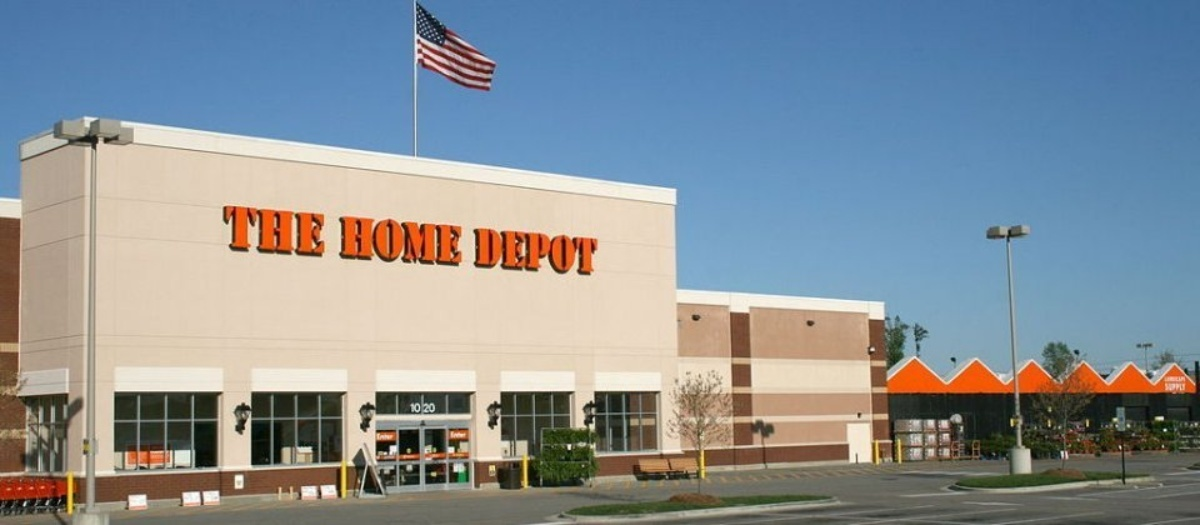text: (225, 204, 240, 256), (241, 204, 256, 256), (257, 204, 272, 256), (273, 204, 288, 256), (289, 204, 304, 256), (305, 204, 320, 256), (353, 216, 368, 267), (369, 216, 384, 267), (385, 216, 400, 267), (401, 216, 416, 267), (417, 216, 432, 267), (433, 216, 448, 267), (481, 228, 496, 276), (497, 228, 512, 276), (513, 228, 528, 276), (529, 228, 544, 276), (545, 228, 560, 276), (561, 228, 576, 276), (577, 228, 592, 276), (449, 216, 463, 267), (339, 216, 352, 267), (593, 228, 601, 276), (321, 204, 326, 256), (476, 228, 480, 276), (1169, 382, 1184, 394), (1169, 372, 1184, 383), (449, 431, 464, 441), (385, 431, 397, 441), (423, 402, 432, 414), (409, 402, 416, 414), (376, 431, 384, 441), (1162, 372, 1168, 383), (417, 402, 422, 414), (223, 204, 224, 256), (1164, 382, 1168, 394), (465, 431, 469, 441), (433, 402, 436, 414), (1185, 382, 1188, 394), (1185, 372, 1188, 383)
